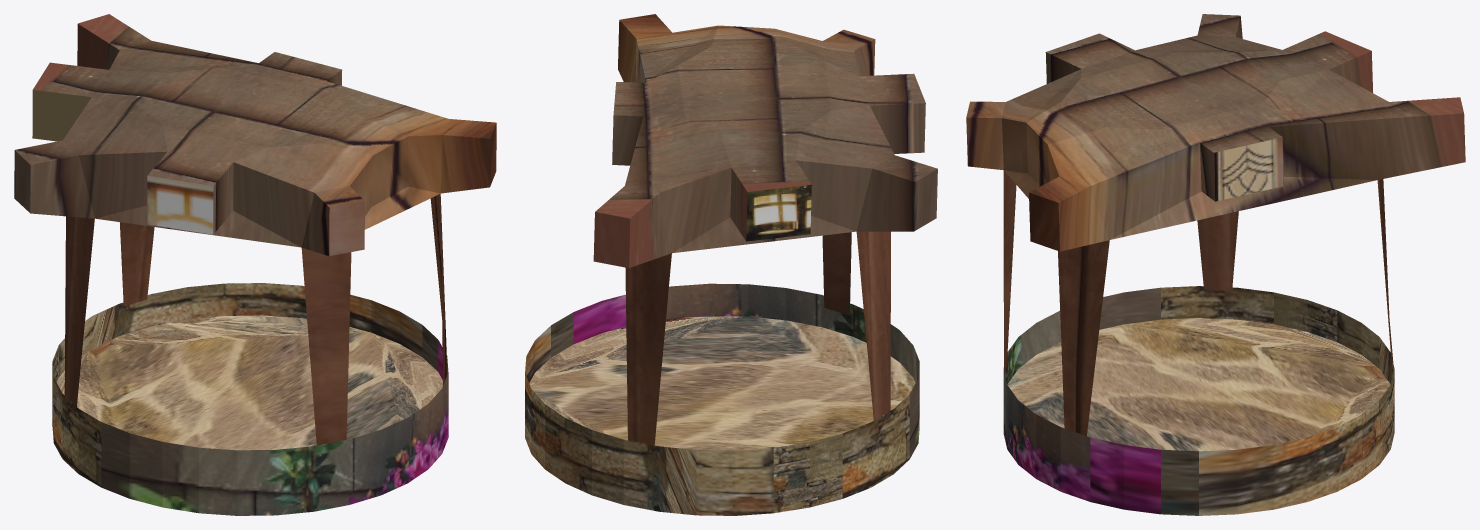
File: gazebo.glb
The picture shows the model from 3 angles, left to right: view 1: azimuth 30°, elevation 25°; view 2: azimuth 150°, elevation 25°; view 3: azimuth 270°, elevation 25°; orthographic projection.
Visible parts, largest first — view 1: Circle; view 2: Circle; view 3: Circle.
Part boxes in pixels (left/top/right/bottom): Circle: left=14, top=14, right=496, bottom=515; Circle: left=525, top=14, right=937, bottom=515; Circle: left=966, top=14, right=1465, bottom=515.
Size of the model in its own units: 15.47 by 12.74 by 17.26.
1 material, 1 textured.
